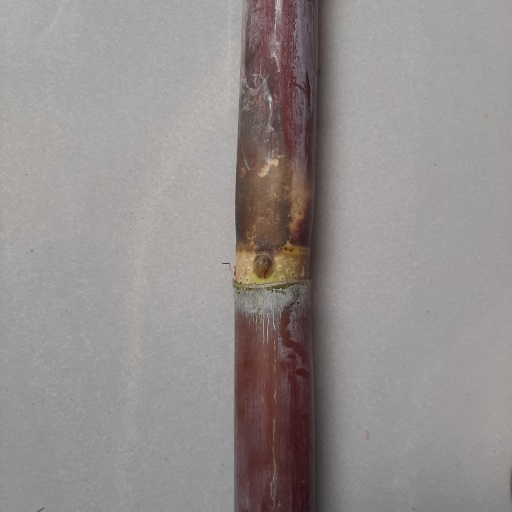Bud: (253, 254, 274, 281)
